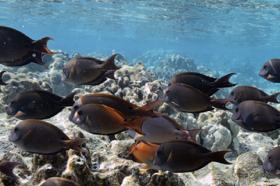Acanthuridae -Surgeonfishes-: (160, 80, 236, 120), (7, 117, 89, 154), (148, 140, 231, 172), (67, 103, 147, 136), (4, 87, 80, 119), (0, 23, 56, 63), (59, 54, 128, 85), (229, 102, 280, 133), (225, 84, 280, 104), (33, 175, 123, 186), (256, 52, 280, 83)
